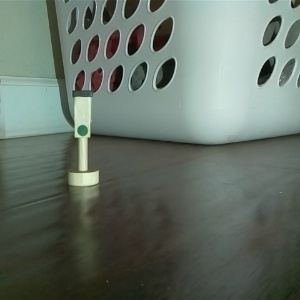traffic light green: (63, 88, 102, 190)
